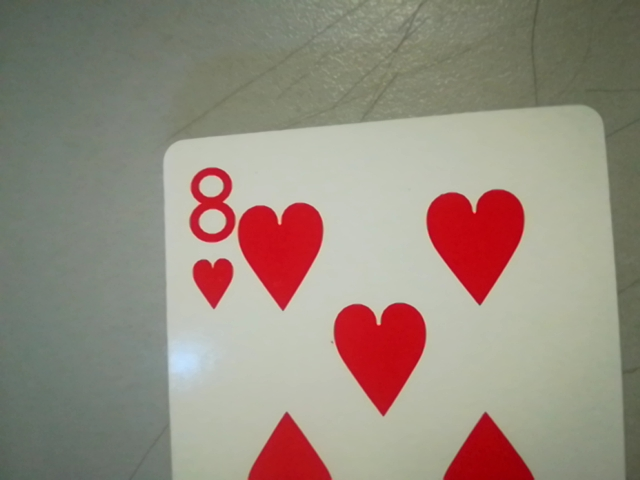hx 8: (173, 157, 243, 318)
